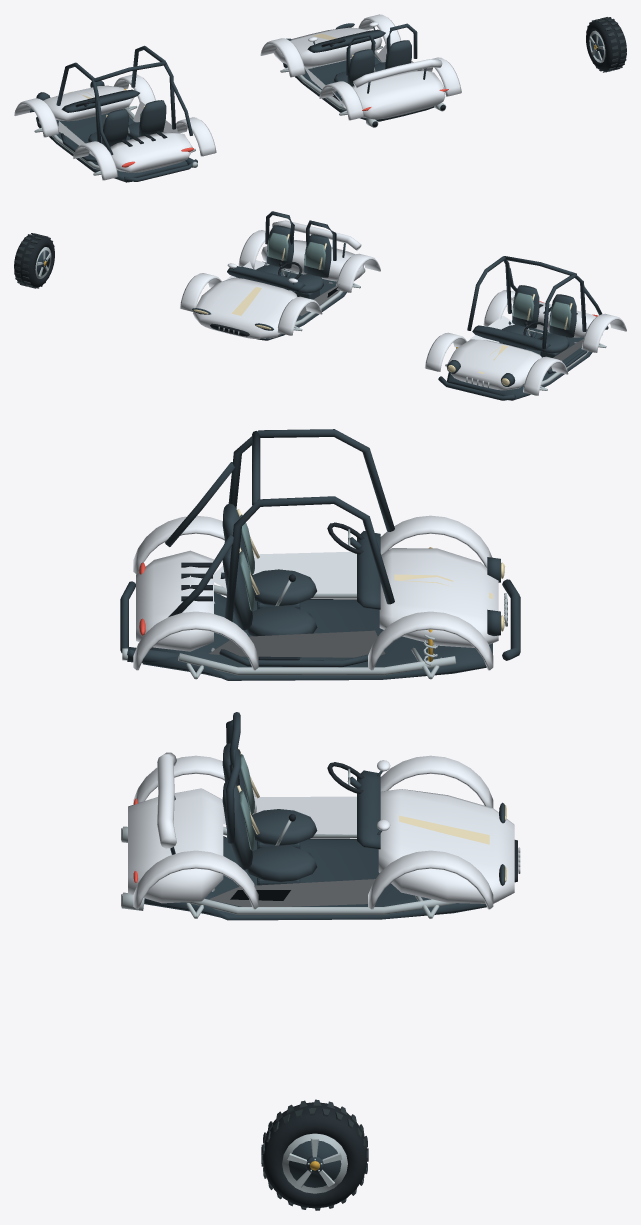
File: vehicles.glb
The picture shows the model from 3 angles, top to bottom: view 1: azimuth 30°, elevation 25°; view 2: azimuth 150°, elevation 25°; view 3: azimuth 270°, elevation 25°; orthographic projection. The views are drawn at different scales.
Visible parts, largest first — view 1: VehicleSport_12.001, VehicleBody_16.001, VehicleSport_11.001, VehicleBody_0.001, VehicleBody_15.001, VehicleWheel_0.001, VehicleSport_0.001, VehicleBody_22.001, VehicleBody_21.001, VehicleSport_17.001, VehicleSport_16.001, VehicleBody_59.001 (+16 smaller); view 2: VehicleSport_11.001, VehicleBody_15.001, VehicleWheel_0.001, VehicleBody_0.001, VehicleSport_12.001, VehicleBody_62.001, VehicleSport_57.001, VehicleBody_21.001, VehicleBody_22.001, VehicleSport_16.001, VehicleSport_17.001, VehicleBody_31.001 (+24 smaller); view 3: VehicleSport_11.001, VehicleBody_15.001, VehicleBody_0.001, VehicleSport_12.001, VehicleSport_0.001, VehicleWheel_0.001, VehicleBody_16.001, VehicleBody_27.001, VehicleBody_17.001, VehicleSport_23.001, VehicleBody_29.001, VehicleBody_31.001 (+21 smaller).
Part boxes in pixels (x1,y1,x2,y2): VehicleSport_12.001: (342,71,445,119); VehicleBody_16.001: (110,132,192,172); VehicleSport_11.001: (273,27,382,68); VehicleBody_0.001: (36,113,187,182); VehicleBody_15.001: (43,85,133,121); VehicleWheel_0.001: (586,18,626,71); VehicleSport_0.001: (283,56,434,121); VehicleBody_22.001: (73,141,118,180); VehicleBody_21.001: (14,98,59,137); VehicleSport_17.001: (319,81,364,120); VehicleSport_16.001: (260,38,305,77); VehicleBody_59.001: (139,100,166,136); VehicleSport_11.001: (193,277,300,338); VehicleBody_15.001: (446,339,541,390); VehicleWheel_0.001: (14,234,54,287); VehicleBody_0.001: (447,328,592,400); VehicleSport_12.001: (261,240,364,281); VehicleBody_62.001: (472,325,550,351); VehicleSport_57.001: (227,266,305,291); VehicleBody_21.001: (523,356,568,395); VehicleBody_22.001: (581,313,626,352); VehicleSport_16.001: (277,296,322,335); VehicleSport_17.001: (336,253,380,292); VehicleBody_31.001: (424,332,466,371); VehicleSport_11.001: (378,789,514,903); VehicleBody_15.001: (379,548,498,647); VehicleBody_0.001: (142,592,492,680); VehicleSport_12.001: (128,788,223,903); VehicleSport_0.001: (144,836,486,920); VehicleWheel_0.001: (262,1102,367,1208); VehicleBody_16.001: (136,550,213,651); VehicleBody_27.001: (209,630,385,657); VehicleBody_17.001: (214,551,356,593); VehicleSport_23.001: (209,879,375,906); VehicleBody_29.001: (224,496,394,621); VehicleBody_31.001: (368,611,493,670).
Bounding box in the file's own units: 11.38 × 2.57 × 3.53.
